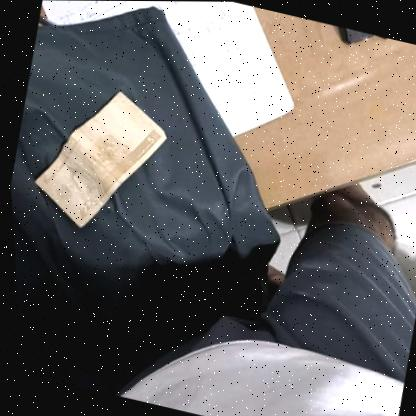vef_back: (18, 75, 179, 243)
